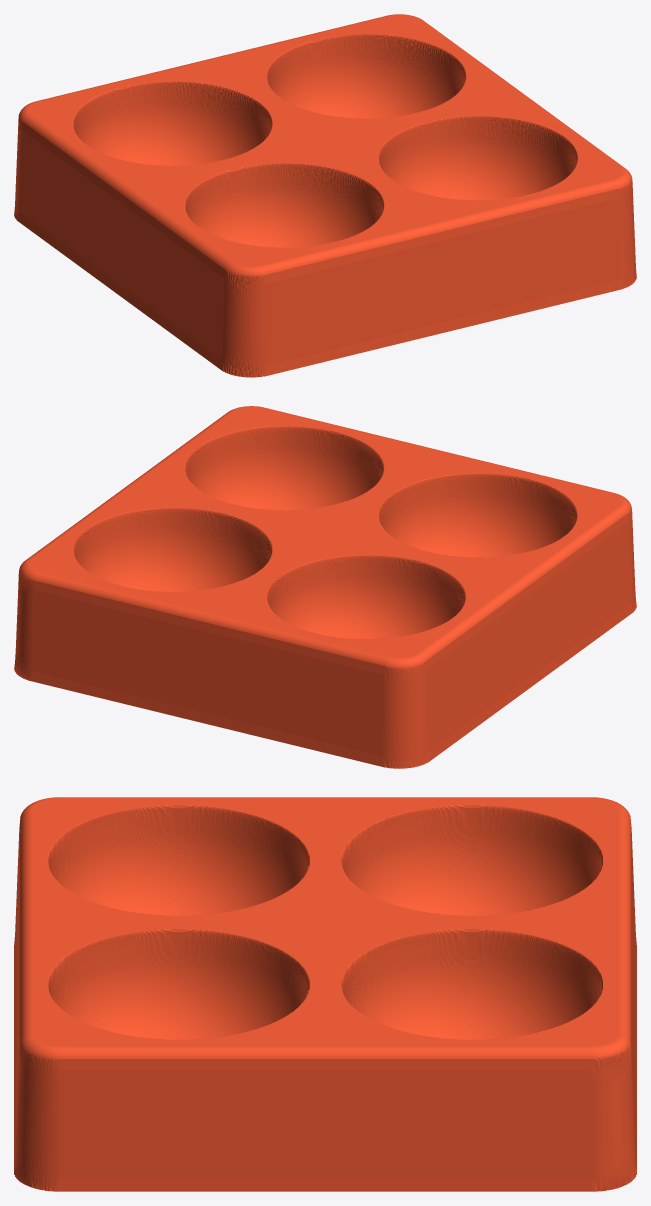
The model's file is mold.glb.
3 views of the same model, one above another, from view 1: azimuth 30°, elevation 25°; view 2: azimuth 150°, elevation 25°; view 3: azimuth 270°, elevation 25° (orthographic). The views are drawn at different scales.
Parts seen in each view (by area): view 1: geometry_0; view 2: geometry_0; view 3: geometry_0.
Boxes of the visible parts, <box> form: geometry_0: <box>14,14,636,377</box>; geometry_0: <box>14,406,636,768</box>; geometry_0: <box>14,797,636,1191</box>.
Bounding box in the file's own units: 0.1225 × 0.0299 × 0.1225.
